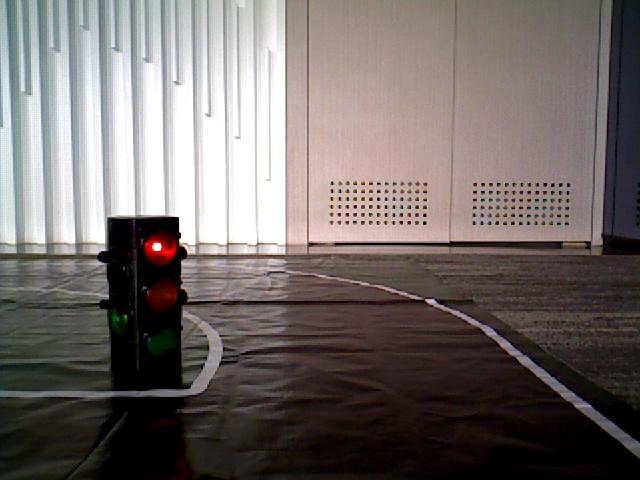red: (132, 219, 181, 374)
